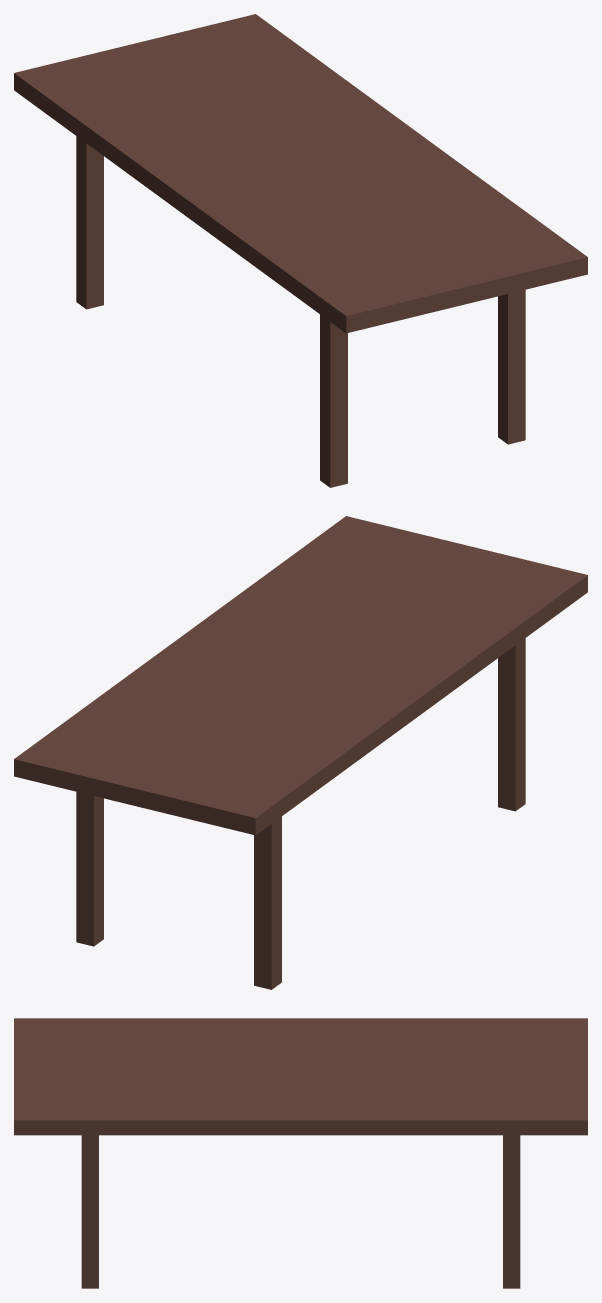
The model's file is table.fbx.
The picture shows the model from 3 angles, top to bottom: view 1: azimuth 30°, elevation 25°; view 2: azimuth 150°, elevation 25°; view 3: azimuth 270°, elevation 25°; orthographic projection. The views are drawn at different scales.
Visible parts, largest first — view 1: Table; view 2: Table; view 3: Table.
Boxes of the visible parts, x1,y1,x2,y2 form: Table: (14,14,587,487); Table: (14,516,587,989); Table: (14,1018,587,1288).
Bounding box in the file's own units: 96.32 × 78.44 × 229.
